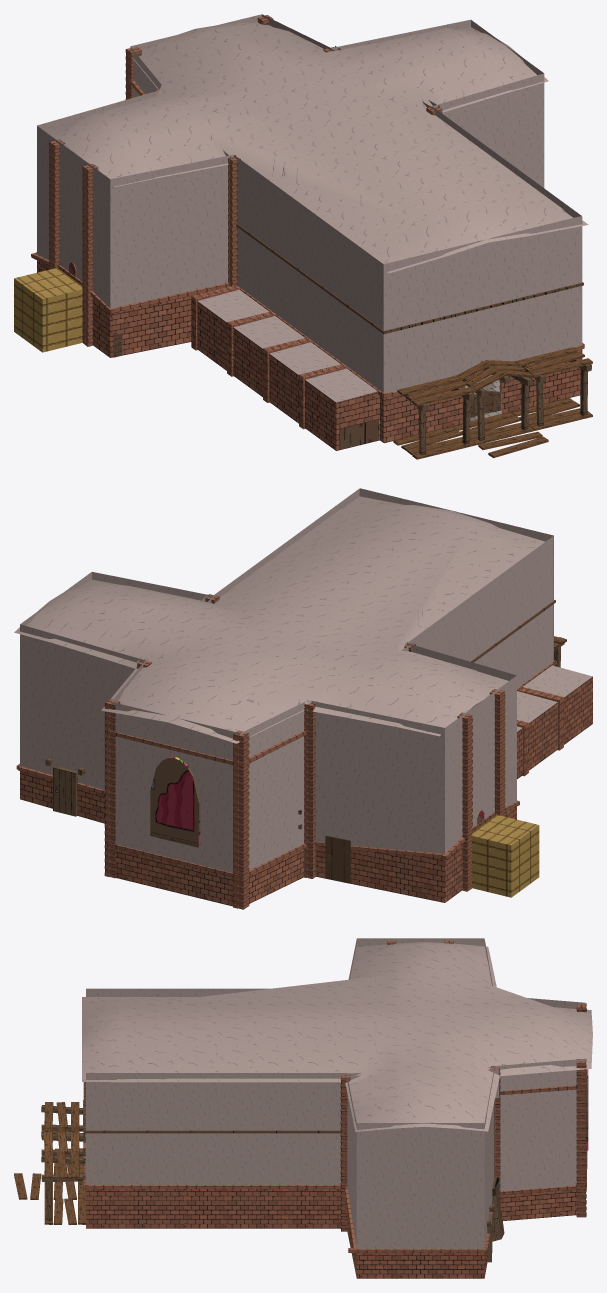
File: kosciol level.fbx
3 views of the same model, one above another, from view 1: azimuth 30°, elevation 25°; view 2: azimuth 150°, elevation 25°; view 3: azimuth 270°, elevation 25° (orthographic). The views are drawn at different scales.
Visible parts, largest first — view 1: Plane.022, dach, Plane.032, Cube.170, Cube.083, Cube.136, Plane.027, Cube.145, Cube.143, Cube.140, Cube.141, Cube.132 (+3 smaller); view 2: Plane.022, dach, Cube.170, Cube.067, Cube.144, drzwi.008, Cube.083; view 3: Plane.022, dach, Cube.170, Plane.027, Cube.136, Cube.141, Cube.140, Cube.132, Cube.143, Cube.139, Cylinder.052.
Part boxes in pixels (box(x1,y1,x2,y2)): Plane.022: box(14, 14, 581, 450); dach: box(44, 22, 588, 273); Plane.032: box(384, 216, 582, 443); Cube.170: box(31, 15, 584, 397); Cube.083: box(191, 286, 378, 449); Cube.136: box(452, 412, 548, 458); Plane.027: box(236, 224, 583, 333); Cube.145: box(393, 426, 475, 459); Cube.143: box(397, 376, 475, 405); Cube.140: box(514, 347, 592, 377); Cube.141: box(511, 398, 592, 430); Cube.132: box(456, 360, 533, 391); Plane.022: box(20, 488, 592, 906); dach: box(14, 496, 545, 743); Cube.170: box(16, 594, 556, 909); Cube.067: box(150, 757, 200, 847); Cube.144: box(53, 765, 77, 816); drzwi.008: box(325, 835, 350, 883); Cube.083: box(517, 686, 563, 776); Plane.022: box(86, 938, 585, 1278); dach: box(82, 942, 592, 1131); Cube.170: box(83, 940, 587, 1252); Plane.027: box(83, 1082, 340, 1133); Cube.136: box(14, 1173, 85, 1199); Cube.141: box(44, 1198, 85, 1224); Cube.140: box(44, 1151, 79, 1178); Cube.132: box(44, 1126, 79, 1153); Cube.143: box(44, 1102, 79, 1128); Cube.139: box(41, 1155, 85, 1221); Cylinder.052: box(492, 1175, 504, 1241).
Bounding box in the file's own units: 2879 × 1137 × 3427.
Materials: 15 (15 with a texture image).
